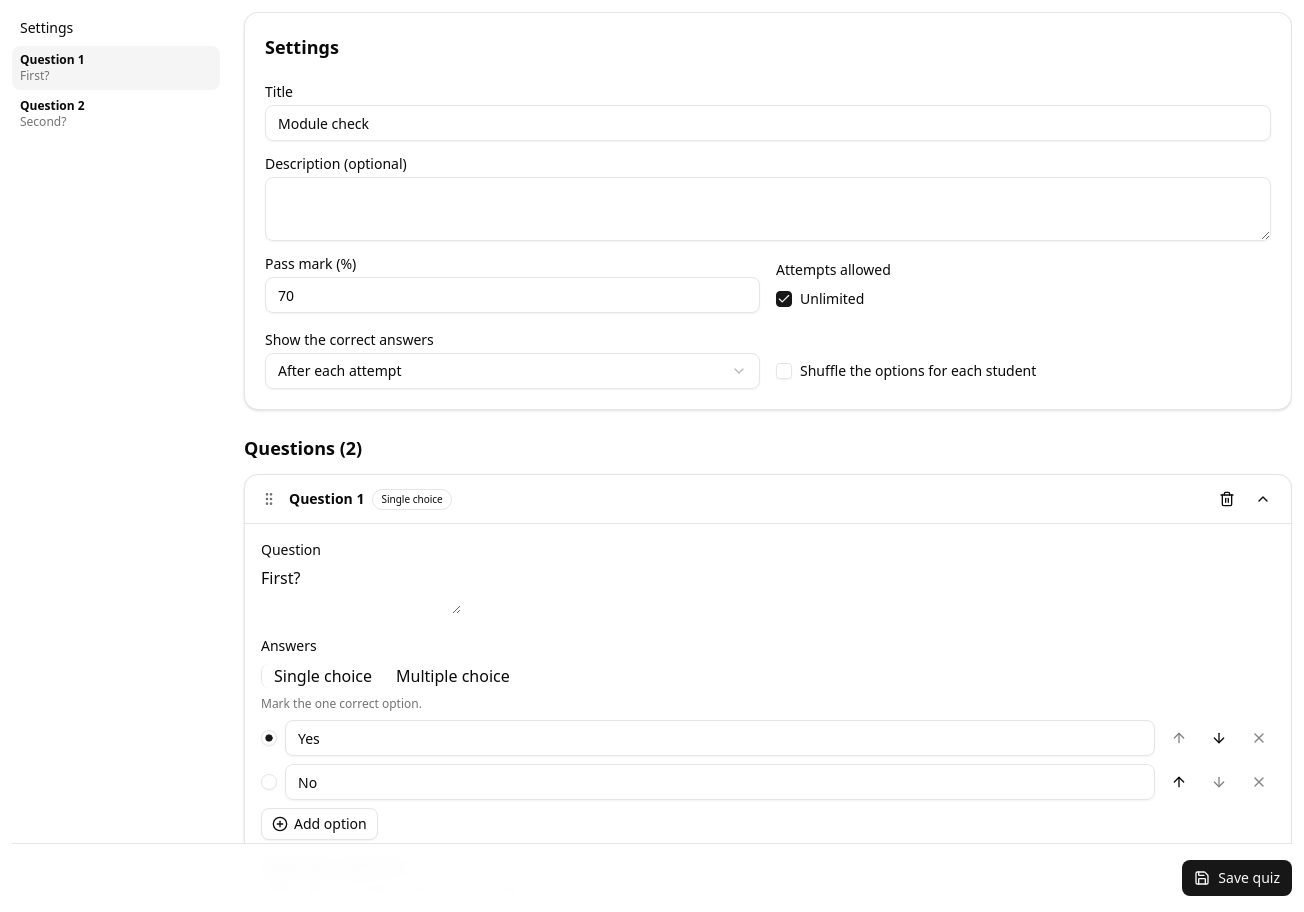
QuizBuilder › shows any other save error as it is
The width and height of the screenshot is (1304, 912).
Click the button "Save quiz" at [1237, 878], box [1182,860,1292,896]
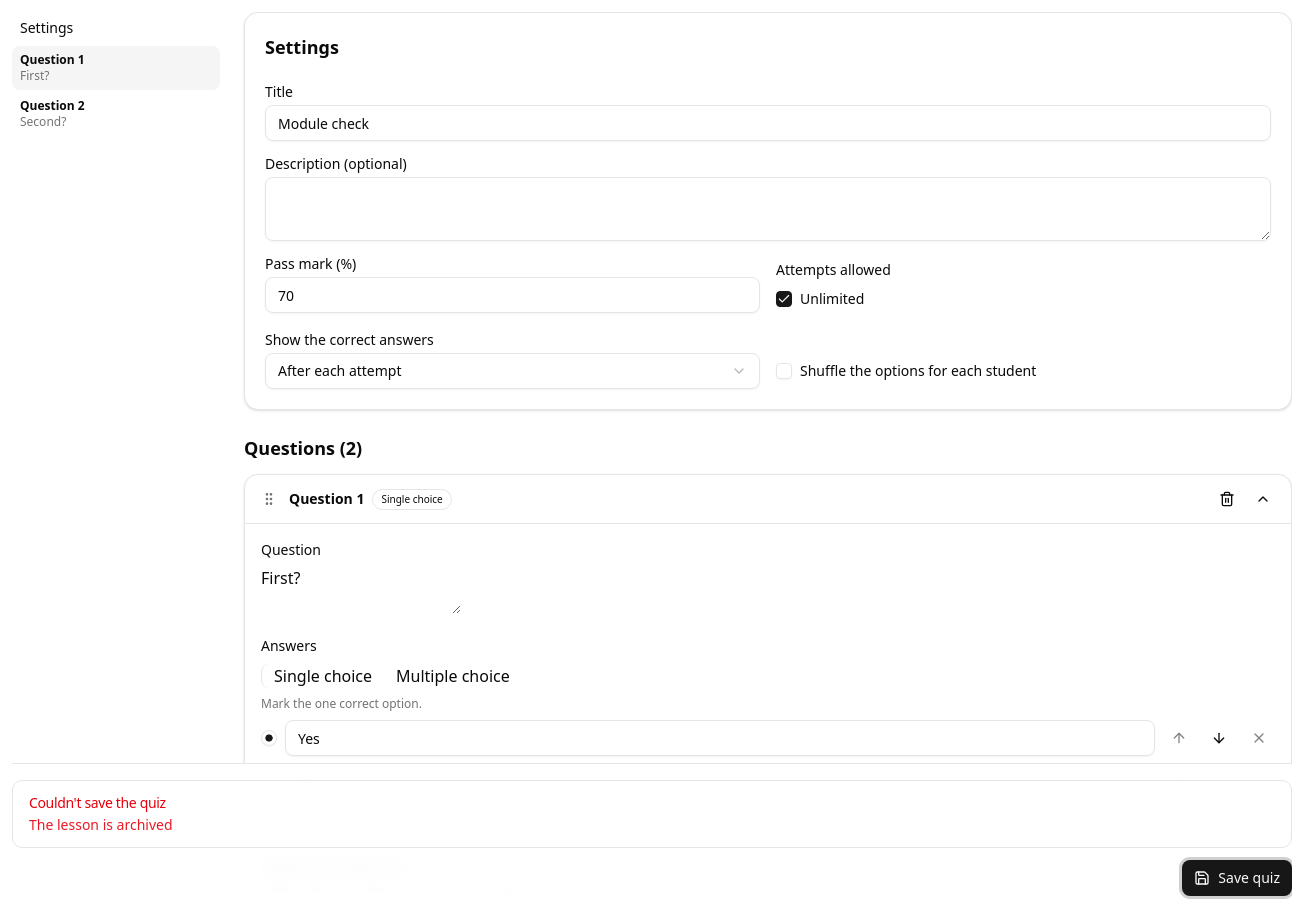
Expected: the text "Couldn't save the quiz" is shown, [29,793,166,812]
Expected: the text "The lesson is archived" is shown, [29,815,173,834]
